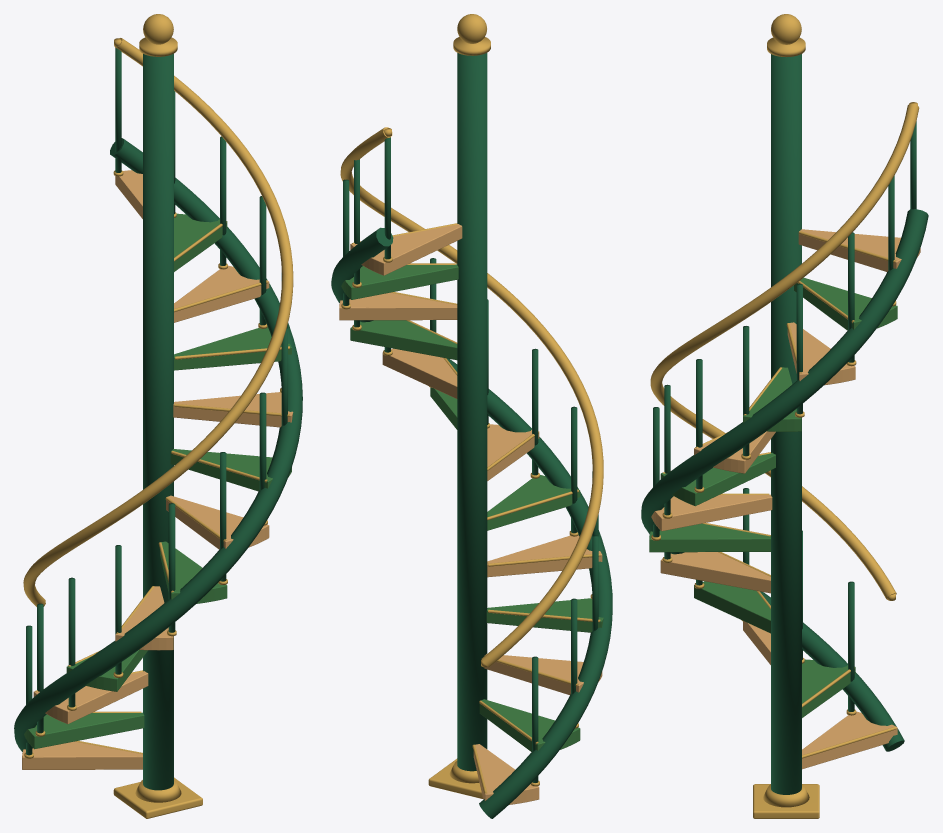
File: spiral_stair.glb
The picture shows the model from 3 angles, left to right: view 1: azimuth 30°, elevation 25°; view 2: azimuth 150°, elevation 25°; view 3: azimuth 270°, elevation 25°; orthographic projection. The views are drawn at different scales.
Visible parts, largest first — view 1: Post, Stringer, Handrail, Tread00, Tread01, Tread09, Tread10, Tread08, Tread02, Tread07, Tread06, Tread11 (+19 smaller); view 2: Post, Stringer, Handrail, Tread10, Tread09, Tread11, Tread05, Tread12, Tread04, Tread03, Tread08, Tread02 (+15 smaller); view 3: Post, Stringer, Handrail, Tread05, Tread04, Tread06, Tread00, Tread03, Tread07, Tread12, Tread11, Tread01 (+17 smaller).
Part boxes in pixels (bbox=[...]): Post: bbox=[143, 54, 173, 790]; Stringer: bbox=[14, 138, 302, 751]; Handrail: bbox=[23, 38, 293, 606]; Tread00: bbox=[22, 741, 142, 769]; Tread01: bbox=[24, 712, 144, 749]; Tread09: bbox=[174, 327, 291, 370]; Tread10: bbox=[174, 265, 269, 322]; Tread08: bbox=[173, 392, 293, 427]; Tread02: bbox=[33, 671, 148, 723]; Tread07: bbox=[170, 449, 291, 491]; Tread06: bbox=[166, 495, 269, 549]; Tread11: bbox=[174, 213, 227, 271]; Post: bbox=[457, 53, 487, 771]; Stringer: bbox=[331, 227, 612, 818]; Handrail: bbox=[340, 127, 603, 667]; Tread10: bbox=[339, 292, 457, 320]; Tread09: bbox=[350, 320, 457, 360]; Tread11: bbox=[341, 264, 458, 299]; Tread05: bbox=[487, 475, 580, 530]; Tread12: bbox=[350, 224, 462, 275]; Tread04: bbox=[487, 535, 602, 577]; Tread03: bbox=[486, 598, 603, 632]; Tread08: bbox=[382, 348, 457, 398]; Tread02: bbox=[484, 654, 602, 695]; Post: bbox=[771, 54, 801, 794]; Stringer: bbox=[641, 209, 928, 751]; Handrail: bbox=[650, 104, 919, 599]; Tread05: bbox=[649, 523, 770, 552]; Tread04: bbox=[660, 552, 770, 593]; Tread06: bbox=[651, 494, 772, 531]; Tread00: bbox=[802, 711, 897, 769]; Tread03: bbox=[694, 581, 770, 633]; Tread07: bbox=[660, 452, 775, 506]; Tread12: bbox=[798, 229, 920, 271]; Tread11: bbox=[794, 277, 897, 330]; Tread01: bbox=[802, 659, 855, 717].
Size of the model in its own units: 1.44 by 4.32 by 1.43.
